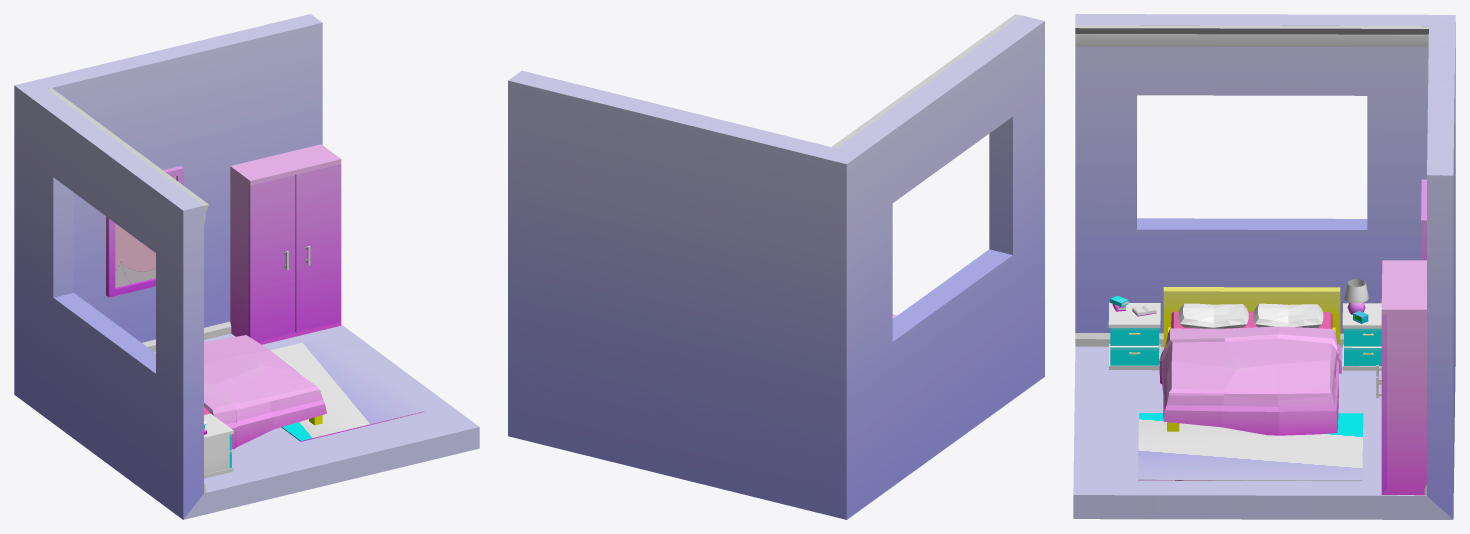
The model's file is bedroom.fbx.
3 renders of one model, left to right at view 1: azimuth 30°, elevation 25°; view 2: azimuth 150°, elevation 25°; view 3: azimuth 270°, elevation 25°, orthographic. The views are drawn at different scales.
Parts seen in each view (by area): view 1: Room, Cupboard, Blanket, Rug, Cube.149, BedsideTable.001, Cube.020; view 2: Room, Cube.020; view 3: Room, Blanket, Rug, Cupboard, Cube.020, Bed, BedsideTable.001, BedsideTable.002, Pillow, Pillow.001, Cube.143, LampShade (+1 smaller).
Boxes of the visible parts, x1,y1,x2,y2 form: Room: [14, 14, 479, 519]; Cupboard: [230, 144, 341, 344]; Blanket: [204, 335, 326, 449]; Rug: [270, 337, 424, 441]; Cube.149: [106, 166, 183, 297]; BedsideTable.001: [204, 413, 233, 478]; Cube.020: [47, 88, 208, 224]; Room: [508, 15, 1044, 519]; Cube.020: [832, 14, 1020, 148]; Room: [1073, 14, 1455, 519]; Blanket: [1159, 326, 1341, 435]; Rug: [1138, 413, 1363, 481]; Cupboard: [1381, 260, 1426, 495]; Cube.020: [1075, 25, 1428, 47]; Bed: [1163, 287, 1340, 431]; BedsideTable.001: [1108, 302, 1160, 370]; BedsideTable.002: [1342, 303, 1381, 370]; Pillow: [1178, 303, 1248, 328]; Pillow.001: [1253, 303, 1323, 327]; Cube.143: [1075, 333, 1343, 347]; LampShade: [1344, 279, 1368, 303].
Size of the model in its own units: 1081 by 1075 by 1081.
5 materials, 2 textured.
